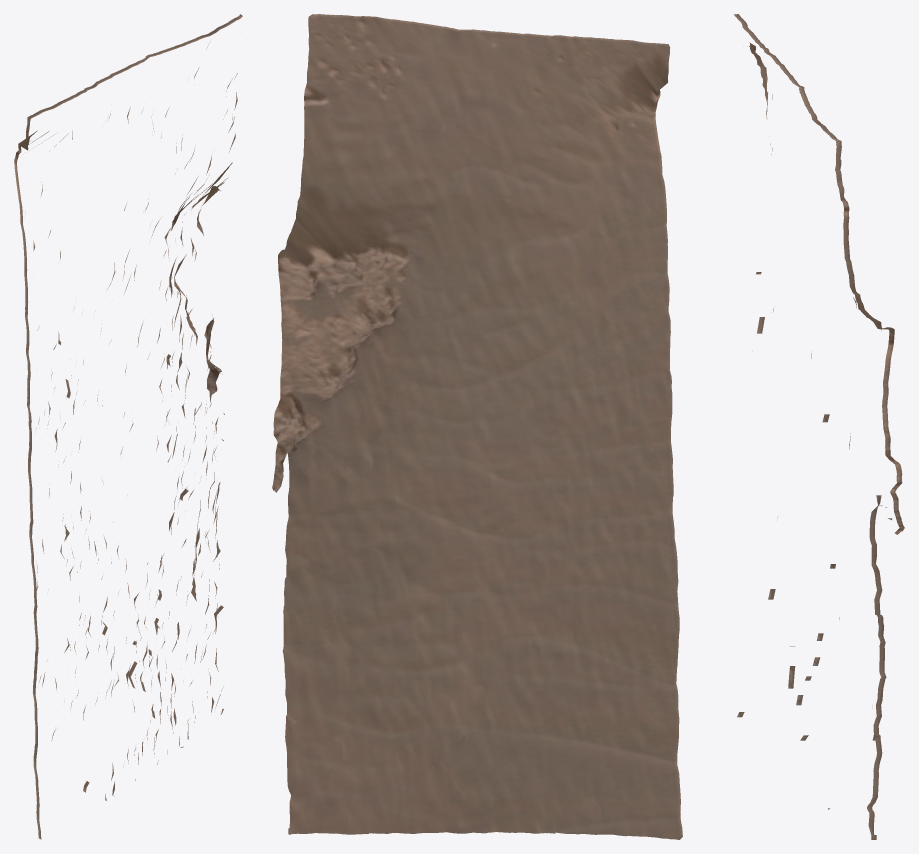
3 renders of one model, left to right at view 1: azimuth 30°, elevation 25°; view 2: azimuth 150°, elevation 25°; view 3: azimuth 270°, elevation 25°, orthographic. The views are drawn at different scales.
Bounding box in the file's own units: 0.5678 × 1.46 × 0.3659.
Materials: 1 (1 with a texture image).
